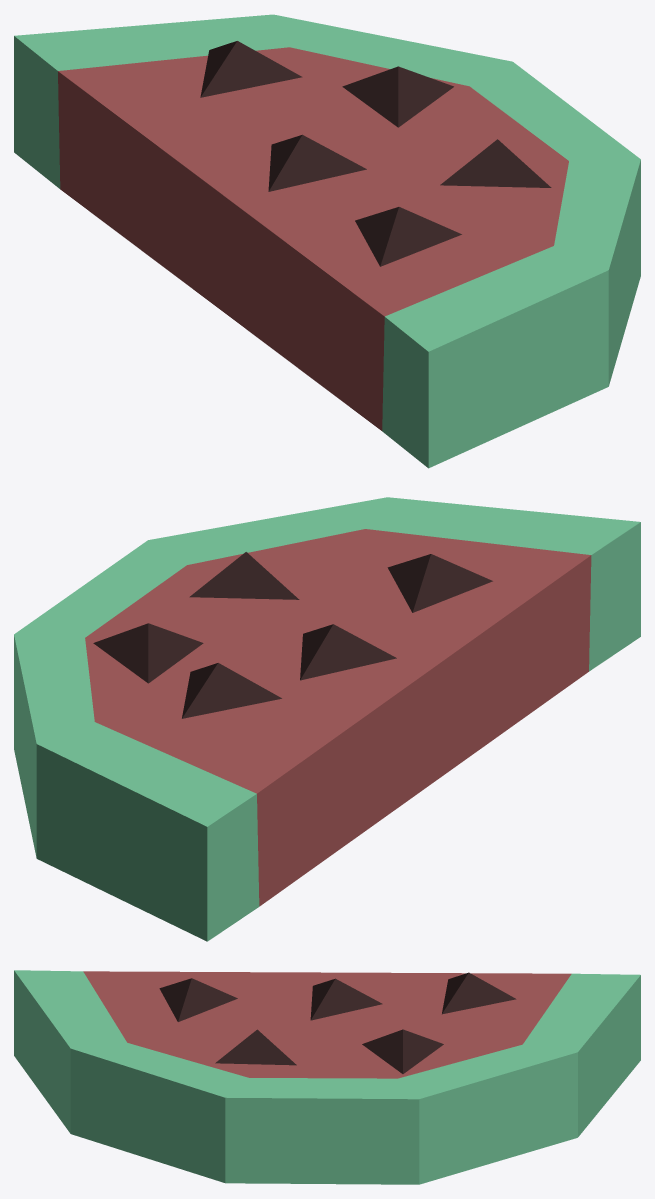
The model's file is SANDIA.fbx.
3 views of the same model, one above another, from view 1: azimuth 30°, elevation 25°; view 2: azimuth 150°, elevation 25°; view 3: azimuth 270°, elevation 25° (orthographic). The views are drawn at different scales.
Parts seen in each view (by area): view 1: pCylinder2; view 2: pCylinder2; view 3: pCylinder2.
Boxes of the visible parts, box(x1,y1,x2,y2) form: pCylinder2: box(14, 14, 640, 468); pCylinder2: box(14, 497, 640, 941); pCylinder2: box(14, 970, 640, 1184).
Bounding box in the file's own units: 0.9738 × 0.4429 × 2.
